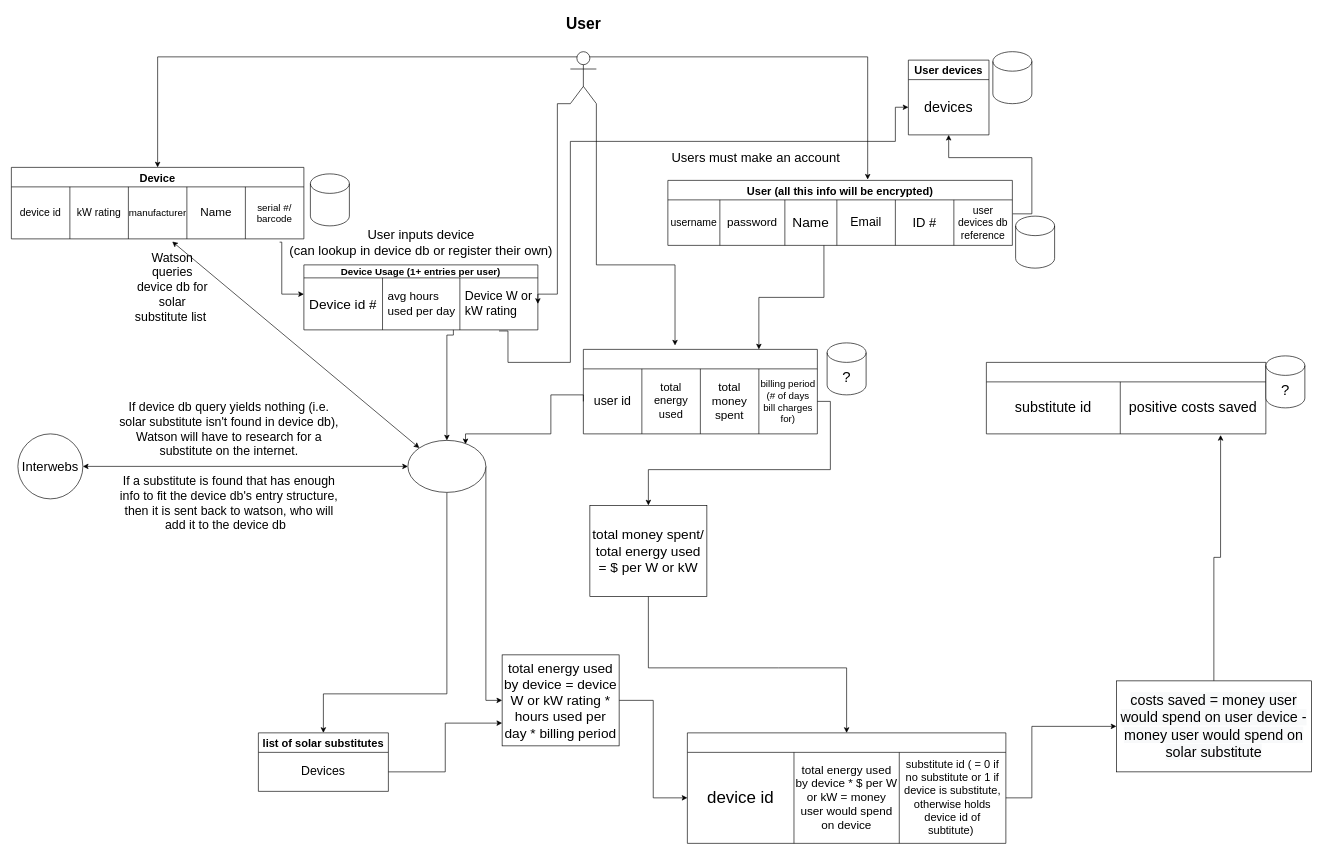
The diagram is 1323 pixels wide and 855 high, and some of its shapes have lost their labels. The shapes that lost their labels are listed below. From the top down, each one's box as (x1, y1, x2, y2) in pixels, then its label:
(570, 51, 596, 104): Actor
(583, 349, 817, 434): Energy bill (1 entry per user)
(986, 362, 1266, 434): recommendation list
(407, 440, 486, 492): IBM Watson
(687, 732, 1006, 843): money user spends on each device (including substitutes)
